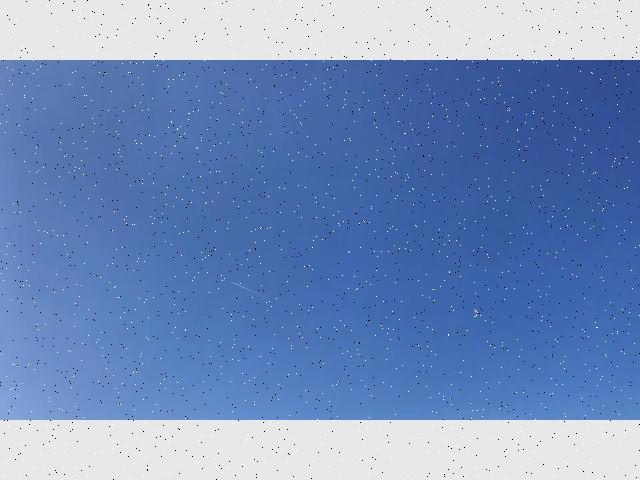Anti-Drone: (465, 301, 483, 319)
